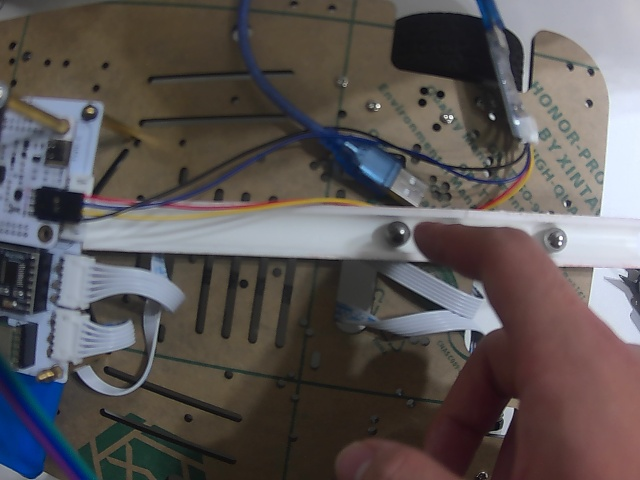steelball: (383, 221, 410, 247), (542, 228, 567, 250)
